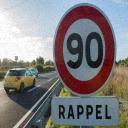speed_limit_90: (52, 3, 116, 96)
